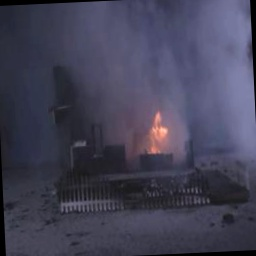fire: (136, 99, 177, 158)
smoke: (63, 0, 253, 109)
